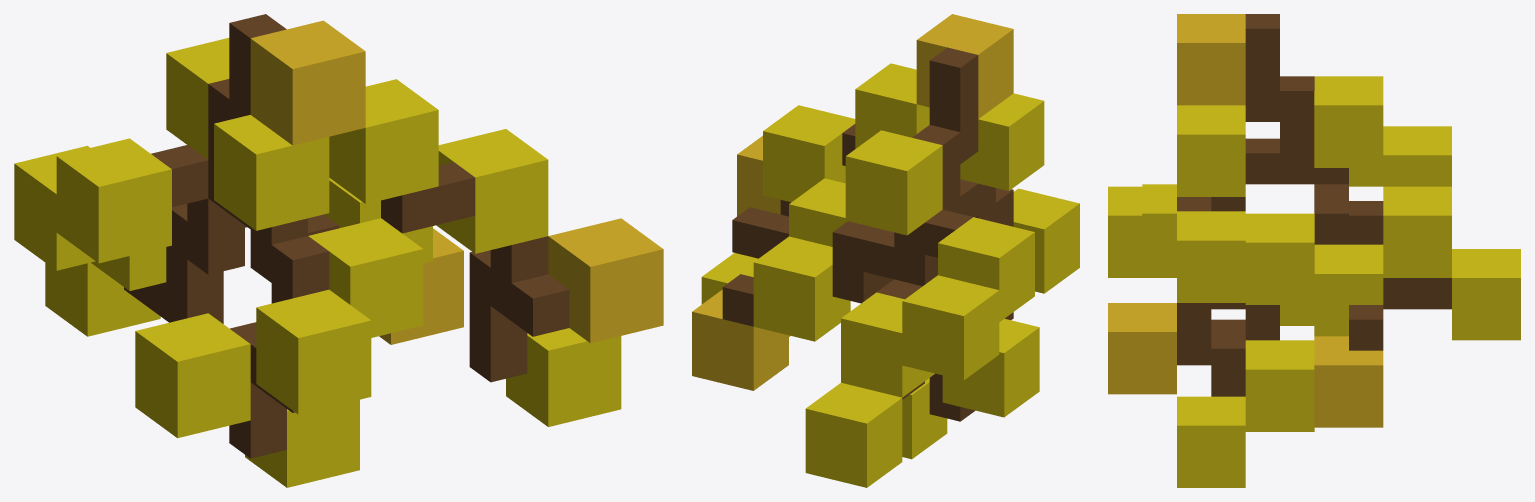
Rendered from 1_4 caja.obj.
3 renders of one model, left to right at view 1: azimuth 30°, elevation 25°; view 2: azimuth 150°, elevation 25°; view 3: azimuth 270°, elevation 25°, orthographic. The views are drawn at different scales.
Size of the model in its own units: 1.2 by 1.2 by 1.2.
1 material, 1 textured.
